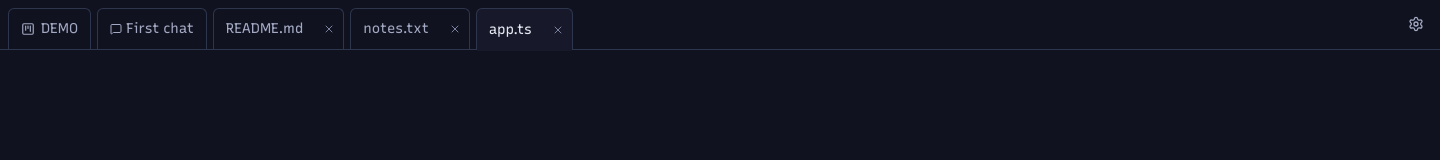
Test case: tab strip - file-tab context menu and middle click (spec Behaviour 20-21) › Copy Absolute Path copies the project root joined with the relative path
This screenshot has width=1440, height=160.
Right-click the element with test id "tab-file-src/app.ts".
right_click(524, 29)  # box [476,8,573,50]
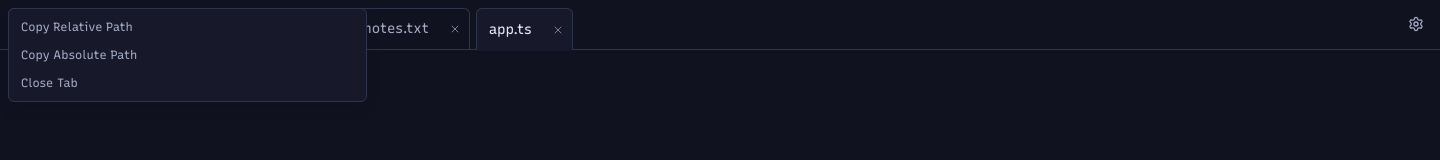
Click the menu item with test id "tab-context-copy-absolute".
click(79, 55)  # box [9,41,366,69]
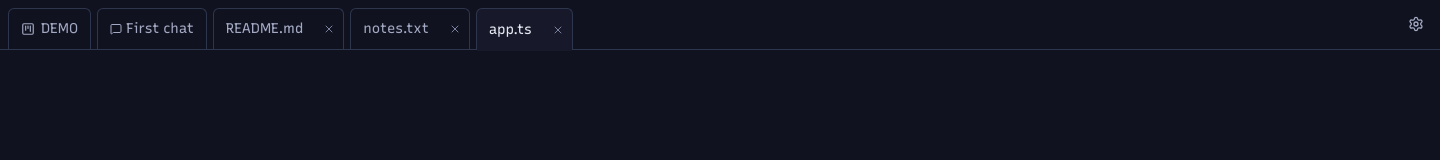
Check: the element with test id "tab-context-menu" is gone
